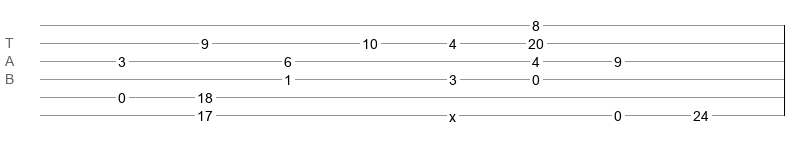0: (118, 90, 126, 100), (532, 72, 540, 82), (614, 108, 622, 118)
1: (284, 72, 292, 82)
10: (362, 36, 378, 46)
17: (197, 108, 213, 118)
18: (197, 90, 213, 100)
20: (528, 36, 544, 46)
24: (693, 108, 709, 118)
3: (118, 54, 126, 64), (449, 72, 457, 82)
4: (449, 36, 457, 46), (532, 54, 540, 64)
6: (284, 54, 292, 64)
8: (532, 18, 540, 28)
9: (201, 36, 209, 46), (614, 54, 622, 64)
x: (449, 109, 456, 117)
